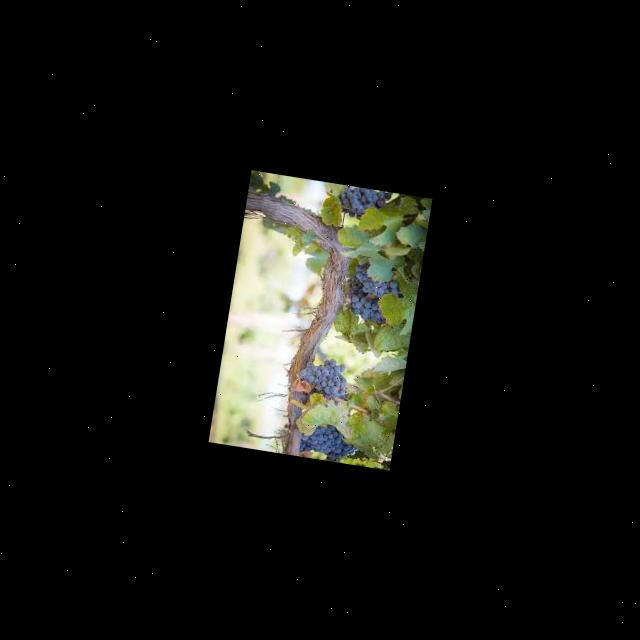grape: (345, 259, 404, 326), (296, 419, 361, 463), (296, 353, 354, 402), (336, 184, 394, 223)
